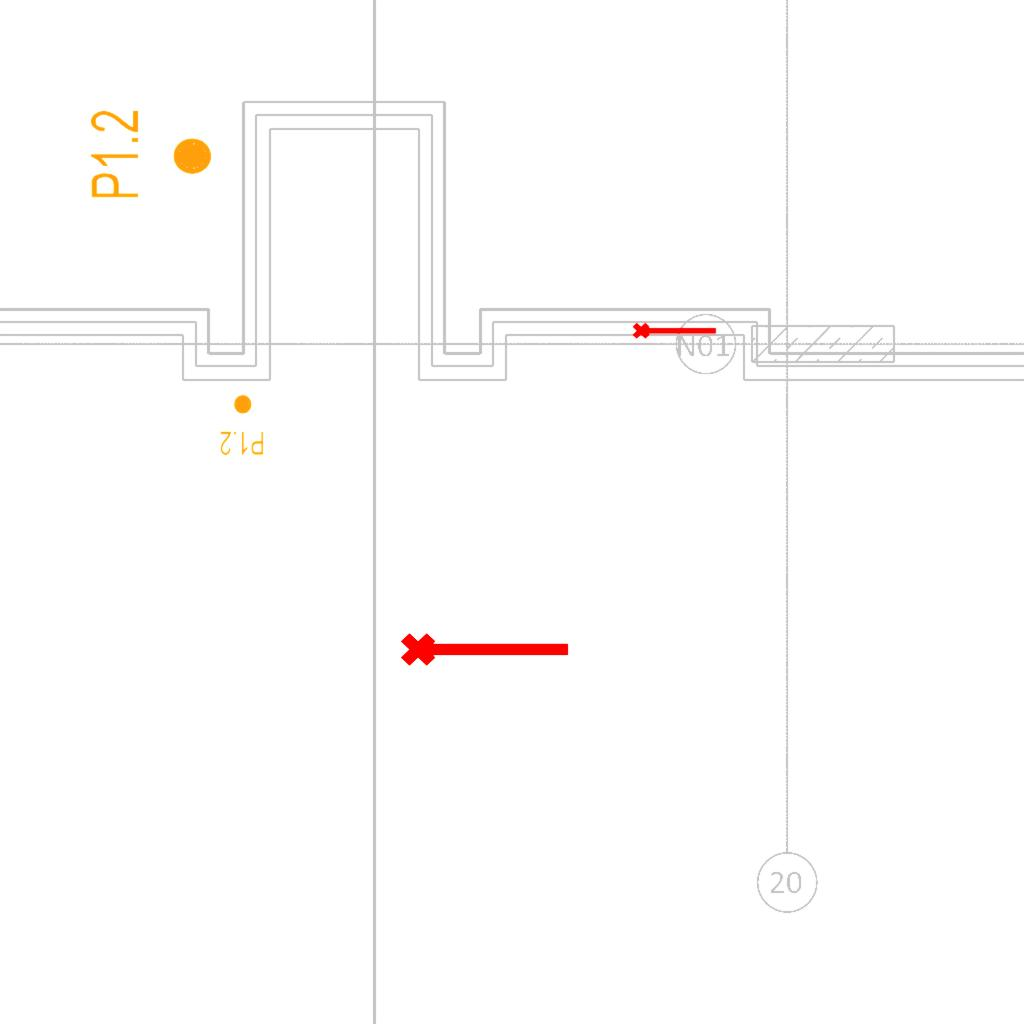ASR_Ansaugoeffnung: (398, 624, 574, 670), (631, 318, 719, 341)
Downlight_LED_Einbauleuchten_Flur: (87, 108, 215, 201), (219, 393, 265, 457)
